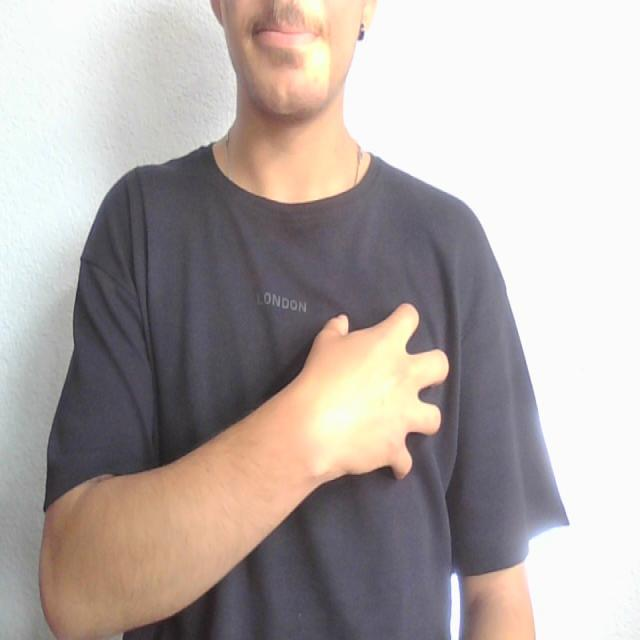Anne: (150, 293, 462, 489)
